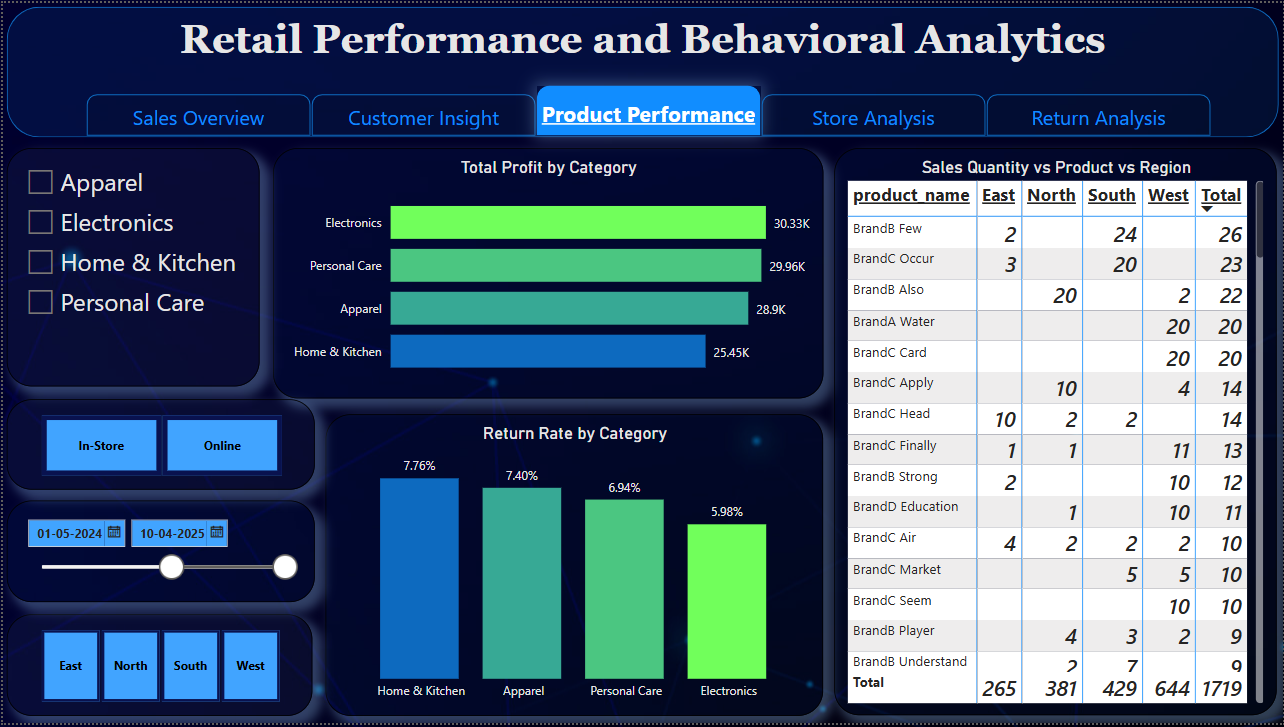

The dashboard page shown, as its layout file describes it:
{"tool":"powerbi","page":{"name":"3. Product Performance Report ","canvas":[1280,720],"ordinal":2},"visuals":[{"type":"clusteredBarChart","title":"Total Profit by Category  ","fields":{"Category":["products_cleaned.category"],"Y":["Sum(sales_cleaned.profit)"]},"box":[270.2,145.5,550.1,250.6],"z":0},{"type":"clusteredColumnChart","title":"Return Rate by Category","fields":{"Category":["products_cleaned.category"],"Y":["sales_cleaned.Return__rate"]},"box":[322.7,410.7,497.5,301.9],"z":1000},{"type":"slicer","fields":{"Values":["products_cleaned.category"]},"box":[3.7,145.5,253,238.4],"z":2000},{"type":"pivotTable","title":"Sales Quantity vs Product vs Region","fields":{"Rows":["products_cleaned.product_name"],"Values":["Sum(sales_cleaned.quantity)"],"Columns":["stores_cleaned.region"]},"box":[831.2,145.5,442.5,567.2],"z":3000},{"type":"shape","box":[3.7,3.7,1272,130.8],"z":4000},{"type":"shape","box":[83.9,91.7,223.7,41.6],"z":5000},{"type":"shape","box":[308.8,91.7,223.7,41.6],"z":6000},{"type":"shape","box":[534.2,83.1,223.7,50.1],"z":7000},{"type":"shape","box":[758.9,91.7,223.7,41.6],"z":8000},{"type":"shape","box":[983.8,91.7,223.7,41.6],"z":9000},{"type":"slicer","fields":{"Values":["customers_cleaned.region"]},"box":[3.7,611.2,305.6,101.5],"z":10000},{"type":"slicer","fields":{"Values":["sales_cleaned.sales_channel"]},"box":[3.7,396.1,308,90.5],"z":11000},{"type":"slicer","fields":{"Values":["sales_cleaned.order_date"]},"box":[3.7,497.5,308,101.5],"z":12000}]}

Visuals, with their boxes in screenshot pixels (x1, y1, x2, y2), scaled from the page's 1280x720 canvas onto the 1284x727 screenshot:
"Total Profit by Category  " clusteredBarChart: [left=271, top=147, right=823, bottom=400]
"Return Rate by Category" clusteredColumnChart: [left=324, top=415, right=823, bottom=720]
slicer - products_cleaned.category: [left=4, top=147, right=258, bottom=388]
"Sales Quantity vs Product vs Region" pivotTable: [left=834, top=147, right=1278, bottom=720]
shape: [left=4, top=4, right=1280, bottom=136]
shape: [left=84, top=93, right=309, bottom=135]
shape: [left=310, top=93, right=534, bottom=135]
shape: [left=536, top=84, right=760, bottom=134]
shape: [left=761, top=93, right=986, bottom=135]
shape: [left=987, top=93, right=1211, bottom=135]
slicer - customers_cleaned.region: [left=4, top=617, right=310, bottom=720]
slicer - sales_cleaned.sales_channel: [left=4, top=400, right=313, bottom=491]
slicer - sales_cleaned.order_date: [left=4, top=502, right=313, bottom=605]
